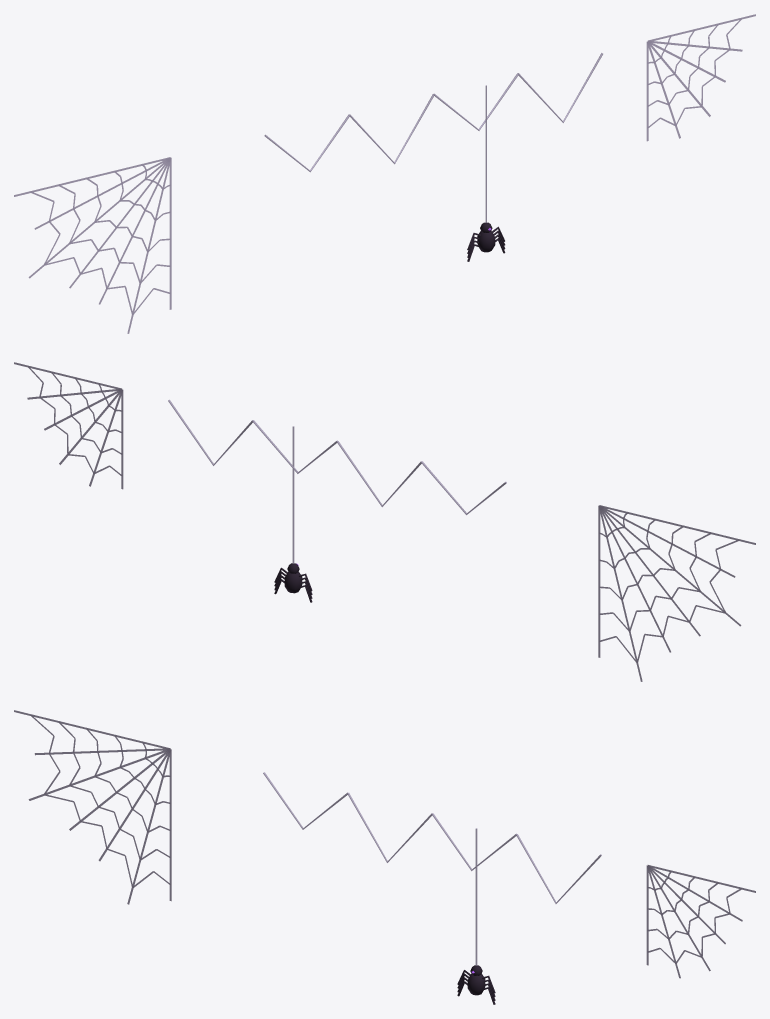
The model's file is overlay_1.fbx.
The picture shows the model from 3 angles, top to bottom: view 1: azimuth 30°, elevation 25°; view 2: azimuth 150°, elevation 25°; view 3: azimuth 330°, elevation 25°; orthographic projection.
Parts seen in each view (by area): view 1: overlay_1; view 2: overlay_1; view 3: overlay_1.
Boxes of the visible parts, box(x1,y1,x2,y2) form: overlay_1: box(14, 14, 755, 333); overlay_1: box(14, 362, 755, 681); overlay_1: box(14, 710, 755, 1004).
Bounding box in the file's own units: 6.16 × 1.37 × 0.1366.
